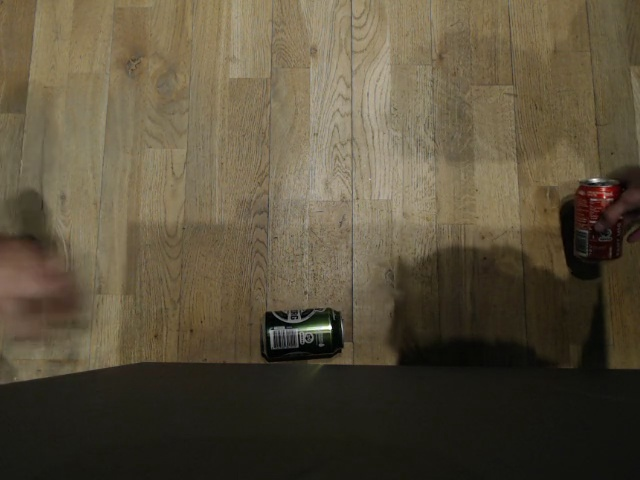beer: (258, 306, 346, 360)
cola: (571, 175, 624, 263)
